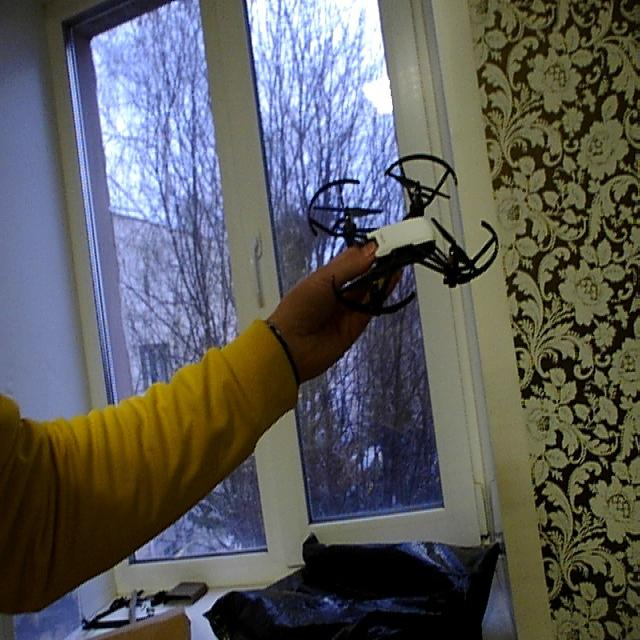drone: (309, 150, 510, 333)
